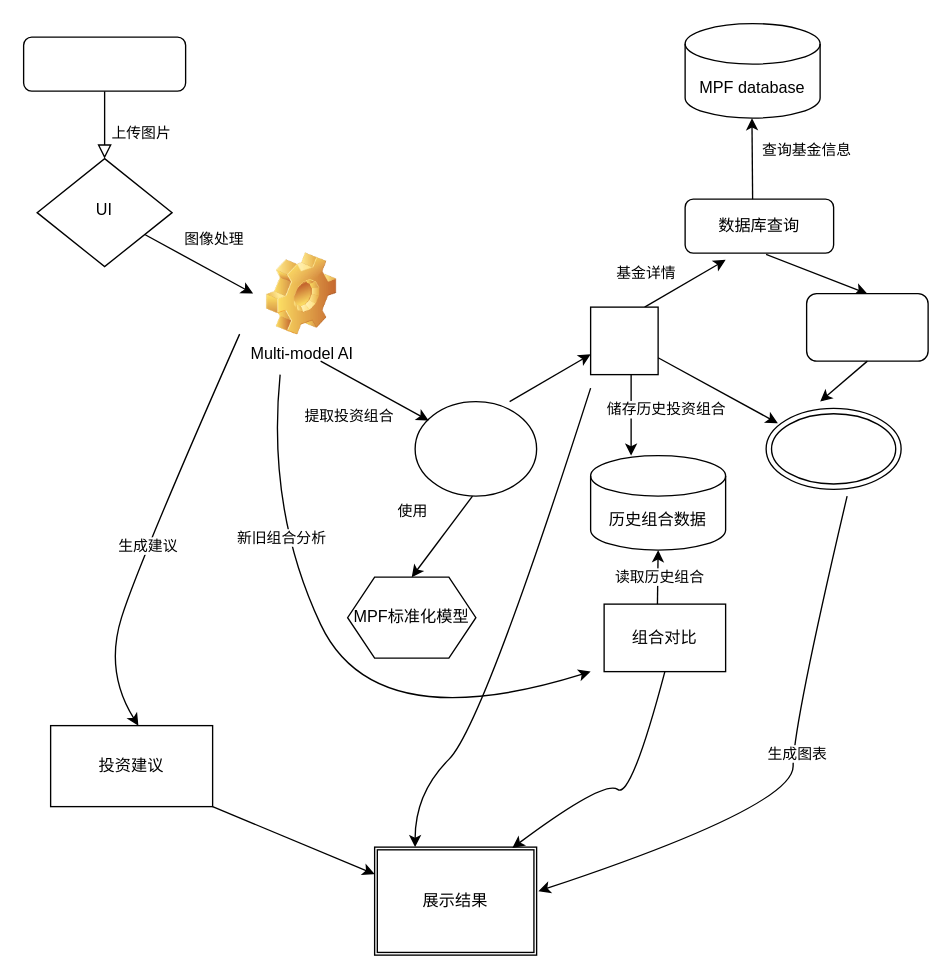
Some shapes in this 952 by 979 pixel diagram are drawn without their labels. The centre of each missing label's shape, as x and y in pixels:
"MPF结构化解析" goes at [475,448].
"可视化" goes at [833,448].
"年龄组资产配置/年龄组地域配置" goes at [866,326].
"投资组合数据" goes at [623,340].
"用户" goes at [104,63].
